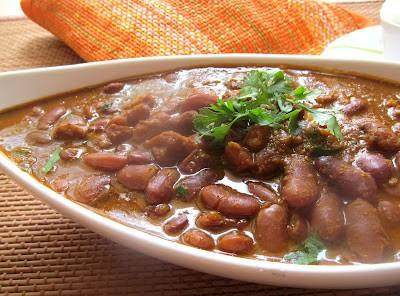RajmaCurry: (0, 62, 400, 265)
